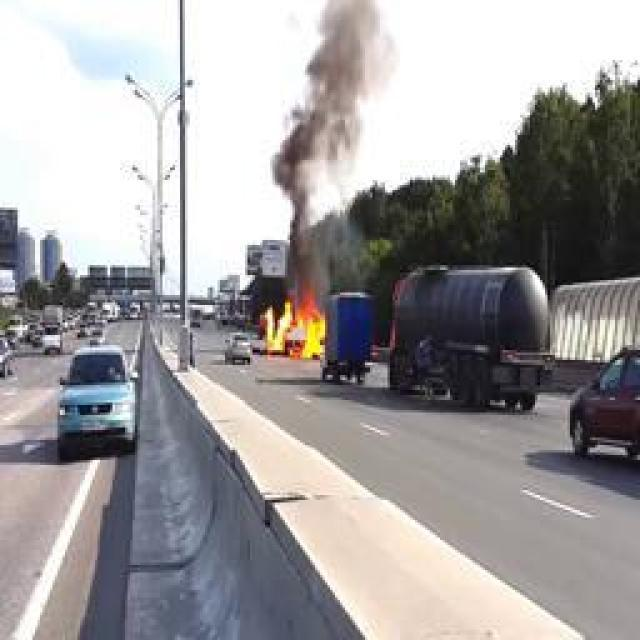Fire: (264, 290, 328, 360)
